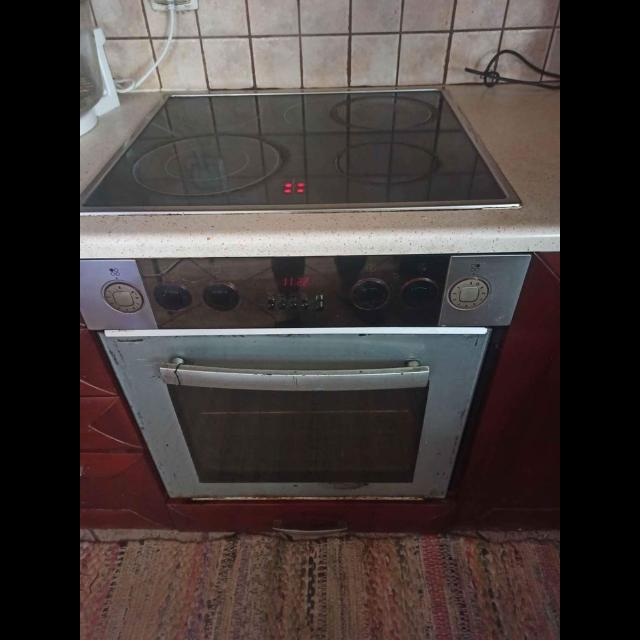Oven: (84, 252, 530, 496)
